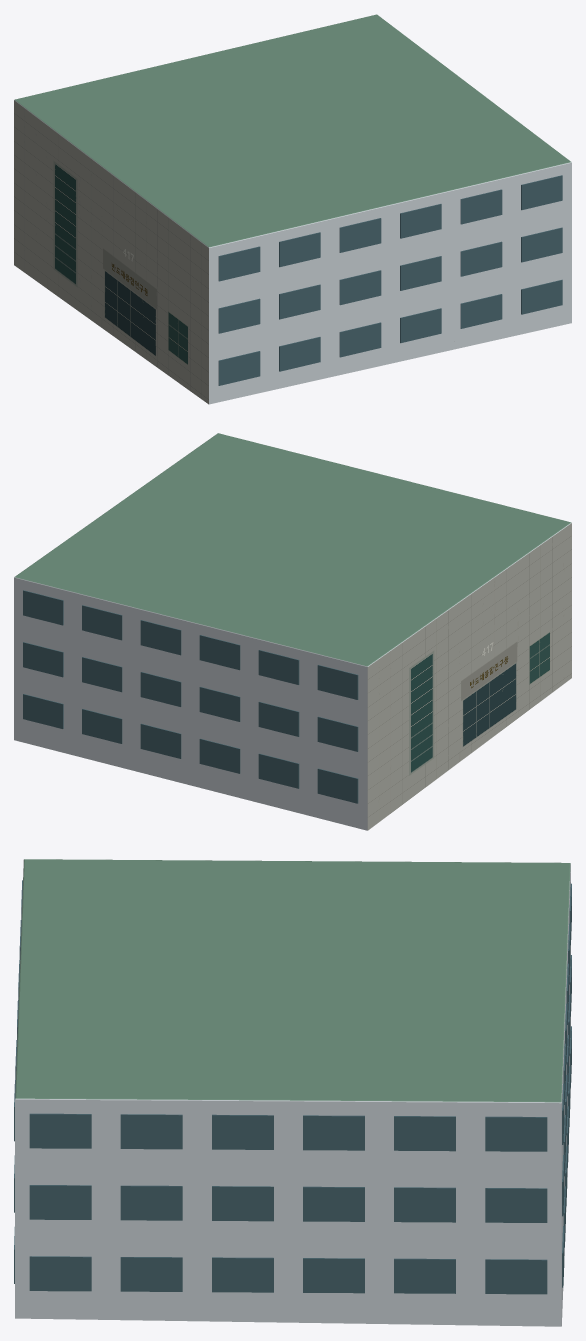
The model's file is fragments.glb.
3 views of the same model, one above another, from view 1: azimuth 30°, elevation 25°; view 2: azimuth 150°, elevation 25°; view 3: azimuth 270°, elevation 25° (orthographic). The views are drawn at different scales.
Parts seen in each view (by area): view 1: SM_semi_Fragment_001, SM_semi_Fragment_061, SM_semi_Fragment_021, SM_semi_Fragment_019, SM_semi_Fragment_011, SM_semi_Fragment_008, SM_semi_Fragment_030, SM_semi_Fragment_054, SM_semi_Fragment_038, SM_semi_Fragment_003, SM_semi_Fragment_016, SM_semi_Fragment_004 (+21 smaller); view 2: SM_semi_Fragment_010, SM_semi_Fragment_045, SM_semi_Fragment_000, SM_semi_Fragment_012, SM_semi_Fragment_019, SM_semi_Fragment_016, SM_semi_Fragment_058, SM_semi_Fragment_003, SM_semi_Fragment_039, SM_semi_Fragment_025, SM_semi_Fragment_004, SM_semi_Fragment_008 (+22 smaller); view 3: SM_semi_Fragment_005, SM_semi_Fragment_020, SM_semi_Fragment_024, SM_semi_Fragment_057, SM_semi_Fragment_047, SM_semi_Fragment_033, SM_semi_Fragment_056, SM_semi_Fragment_016, SM_semi_Fragment_025, SM_semi_Fragment_004, SM_semi_Fragment_011, SM_semi_Fragment_012 (+19 smaller).
Boxes of the visible parts, <box> form: SM_semi_Fragment_001: <box>307,178,441,305</box>; SM_semi_Fragment_061: <box>161,237,302,351</box>; SM_semi_Fragment_021: <box>260,280,381,392</box>; SM_semi_Fragment_019: <box>14,90,137,213</box>; SM_semi_Fragment_011: <box>195,188,326,282</box>; SM_semi_Fragment_008: <box>148,271,264,404</box>; SM_semi_Fragment_030: <box>459,194,571,297</box>; SM_semi_Fragment_054: <box>380,152,508,261</box>; SM_semi_Fragment_038: <box>362,282,461,369</box>; SM_semi_Fragment_003: <box>47,195,115,326</box>; SM_semi_Fragment_016: <box>98,61,233,121</box>; SM_semi_Fragment_004: <box>224,91,374,143</box>; SM_semi_Fragment_010: <box>306,665,405,830</box>; SM_semi_Fragment_045: <box>223,636,334,771</box>; SM_semi_Fragment_000: <box>123,657,240,780</box>; SM_semi_Fragment_012: <box>70,567,221,664</box>; SM_semi_Fragment_019: <box>324,608,442,725</box>; SM_semi_Fragment_016: <box>199,584,350,688</box>; SM_semi_Fragment_058: <box>57,597,153,715</box>; SM_semi_Fragment_003: <box>402,658,474,804</box>; SM_semi_Fragment_039: <box>435,565,512,678</box>; SM_semi_Fragment_025: <box>14,571,72,677</box>; SM_semi_Fragment_004: <box>188,523,335,585</box>; SM_semi_Fragment_008: <box>508,606,571,716</box>; SM_semi_Fragment_005: <box>54,1050,217,1200</box>; SM_semi_Fragment_020: <box>192,1027,366,1185</box>; SM_semi_Fragment_024: <box>76,1171,227,1321</box>; SM_semi_Fragment_057: <box>351,1169,519,1324</box>; SM_semi_Fragment_047: <box>204,1178,340,1322</box>; SM_semi_Fragment_033: <box>299,1063,423,1196</box>; SM_semi_Fragment_056: <box>394,1051,553,1178</box>; SM_semi_Fragment_016: <box>393,905,568,1024</box>; SM_semi_Fragment_025: <box>481,1064,564,1235</box>; SM_semi_Fragment_004: <box>253,954,413,1035</box>; SM_semi_Fragment_011: <box>19,859,166,959</box>; SM_semi_Fragment_012: <box>434,972,567,1070</box>.
Bounding box in the file's own units: 2.2 × 0.9519 × 2.13.
Materials: 5 (1 with a texture image).
